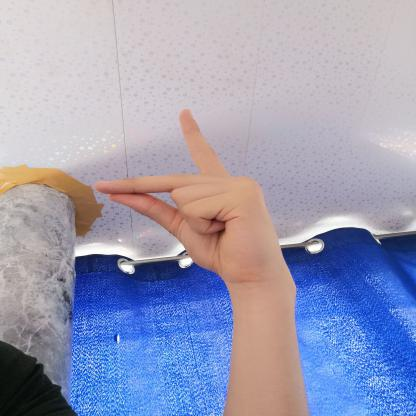TAA: (82, 100, 296, 286)
